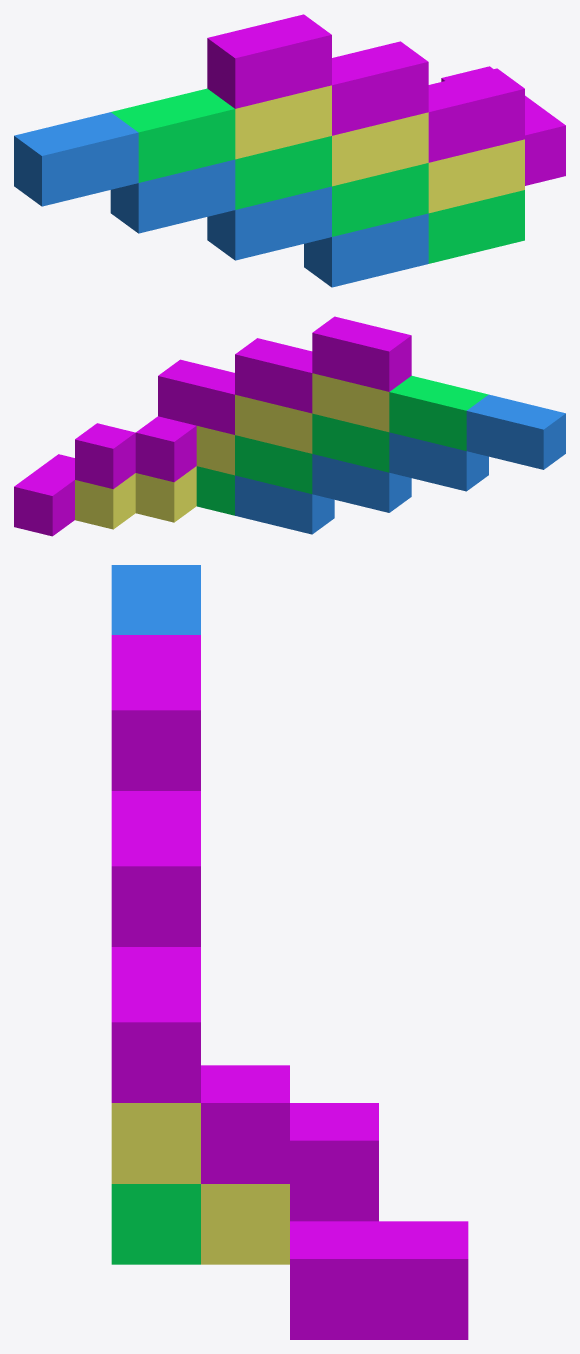
3 views of the same model, one above another, from view 1: azimuth 30°, elevation 25°; view 2: azimuth 150°, elevation 25°; view 3: azimuth 270°, elevation 25° (orthographic). The views are drawn at different scales.
Visible parts, largest first — view 1: 54.1; view 2: 54.1; view 3: 54.1.
Part boxes in pixels (x1,y1,x2,y2): 54.1: (14, 14, 565, 287); 54.1: (14, 316, 565, 536); 54.1: (111, 565, 468, 1339).
Bounding box in the file's own units: 120 × 50 × 40.
Materials: 1 (1 with a texture image).
